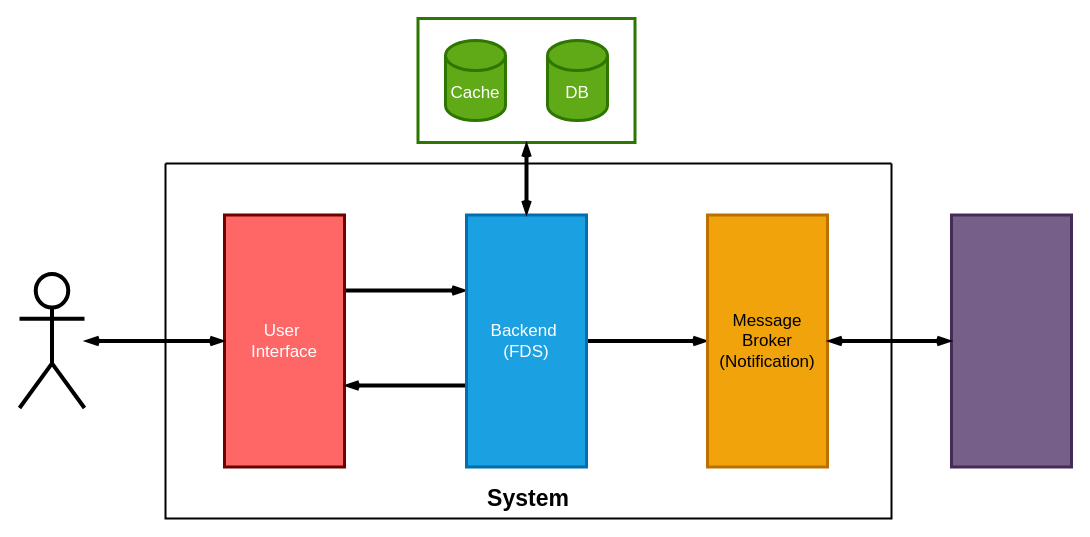
This 1090x537 diagram has some shape labels left out. The shapes that lost their labels are listed below. From the top down, each one's box as (x1, y1, x2, y2) in pixels, then its label:
(17, 272, 86, 410): Actor
(950, 213, 1072, 468): Message Consumer
